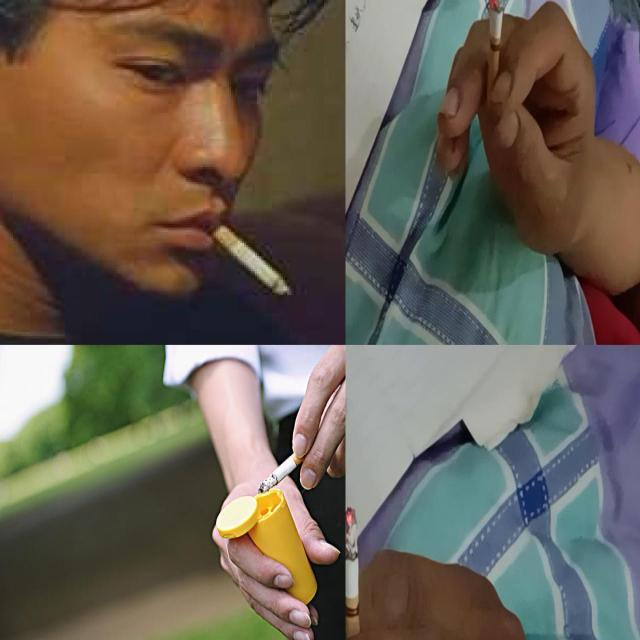smoking: (201, 212, 291, 298), (254, 444, 308, 496), (486, 0, 507, 110), (346, 505, 362, 639)
